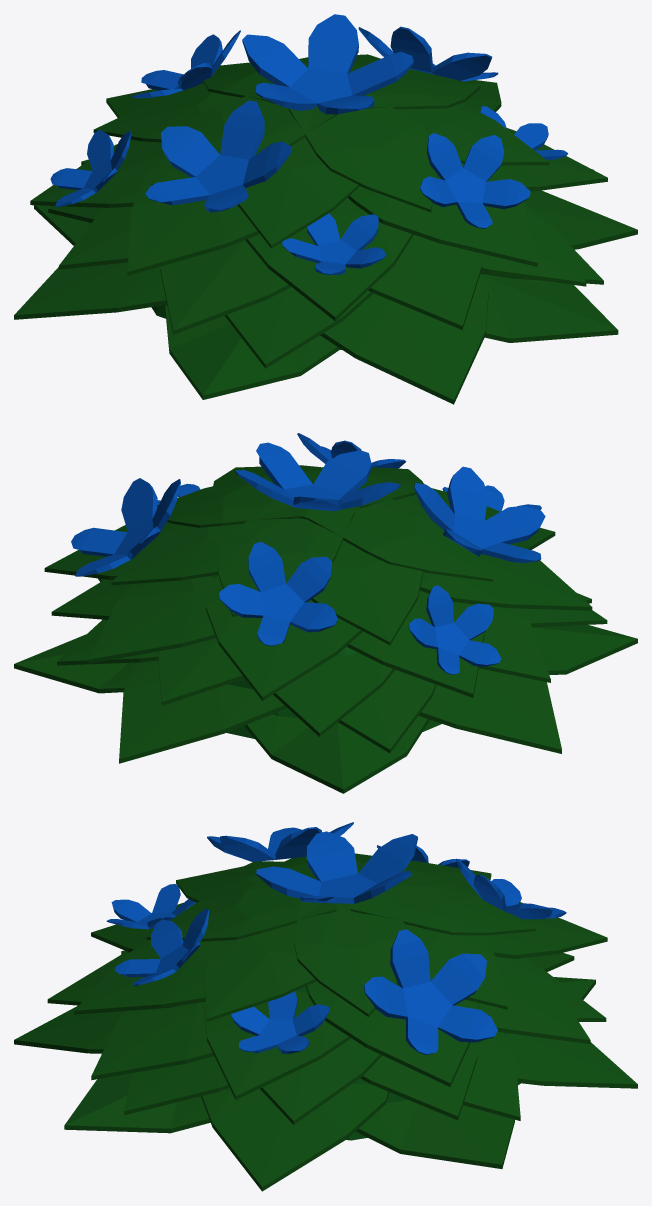
Rendered from BushBlueFlowers.obj.
The picture shows the model from 3 angles, top to bottom: view 1: azimuth 30°, elevation 25°; view 2: azimuth 150°, elevation 25°; view 3: azimuth 270°, elevation 25°; orthographic projection. The views are drawn at different scales.
Parts seen in each view (by area): view 1: BushBlueFlowers_Cube.003; view 2: BushBlueFlowers_Cube.003; view 3: BushBlueFlowers_Cube.003.
Part boxes in pixels (bbox=[...]): BushBlueFlowers_Cube.003: bbox=[14, 14, 637, 404]; BushBlueFlowers_Cube.003: bbox=[14, 433, 637, 793]; BushBlueFlowers_Cube.003: bbox=[14, 822, 637, 1191].
Bounding box in the file's own units: 9.91 × 3.73 × 9.99.
